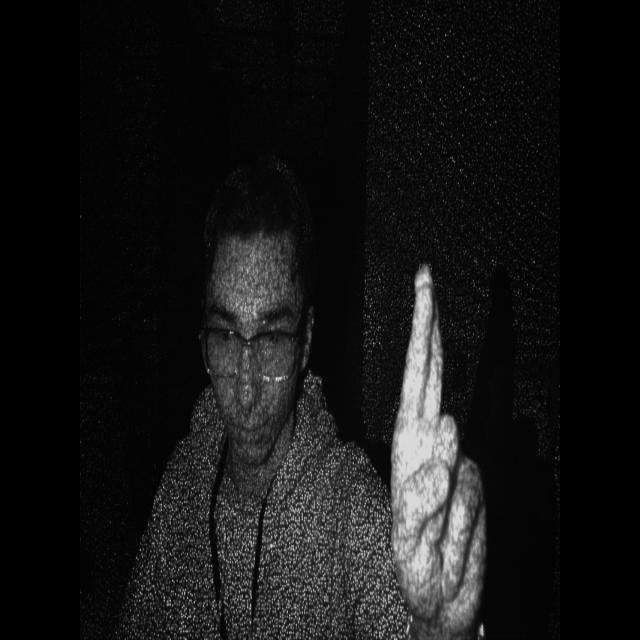R: (381, 248, 500, 636)
